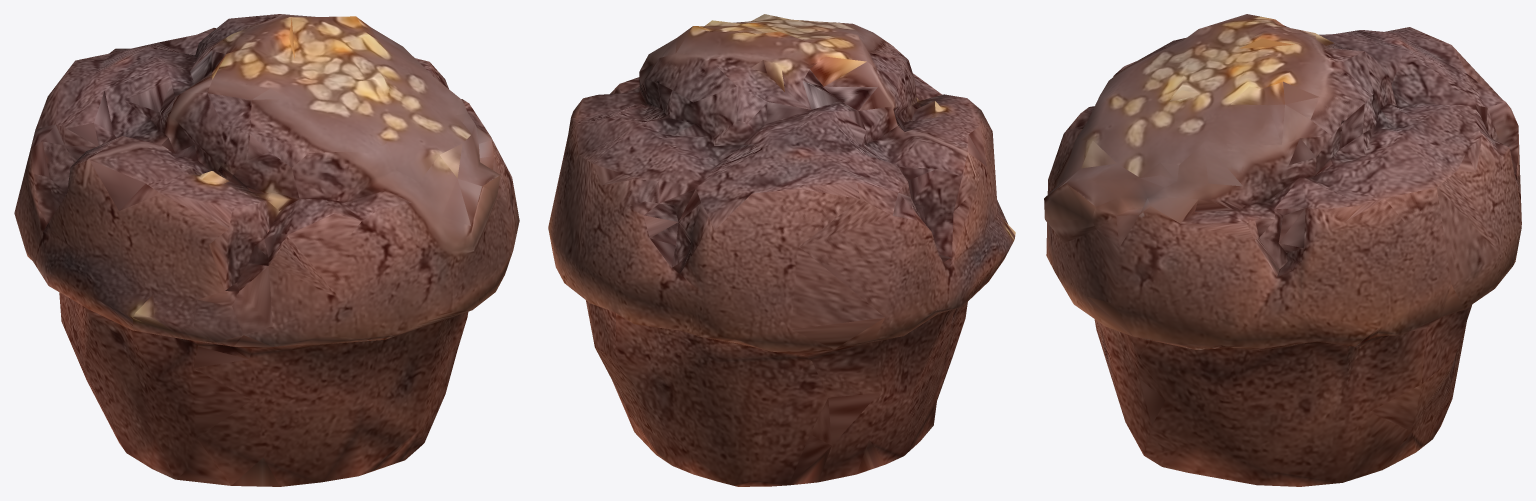
The model's file is muffin_860.obj.
3 views of the same model, side by side, from view 1: azimuth 30°, elevation 25°; view 2: azimuth 150°, elevation 25°; view 3: azimuth 270°, elevation 25° (orthographic). The views are drawn at different scales.
Size of the model in its own units: 14.27 by 12.99 by 14.3.
Materials: 1 (1 with a texture image).
